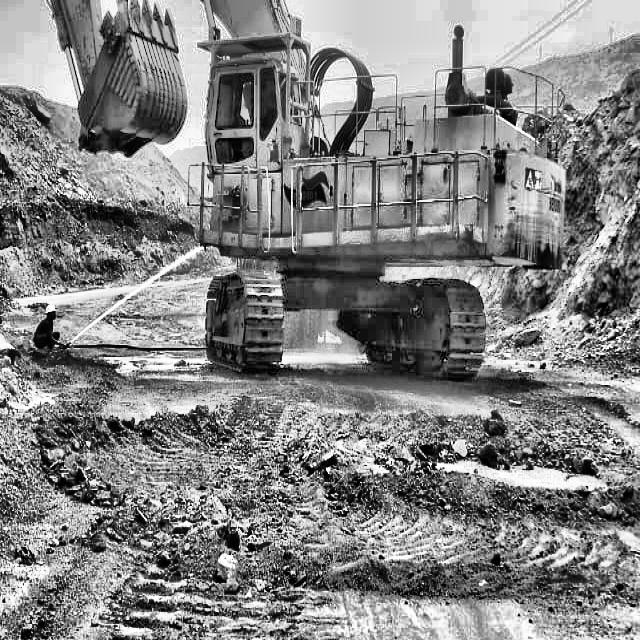excavator: (40, 0, 570, 284)
